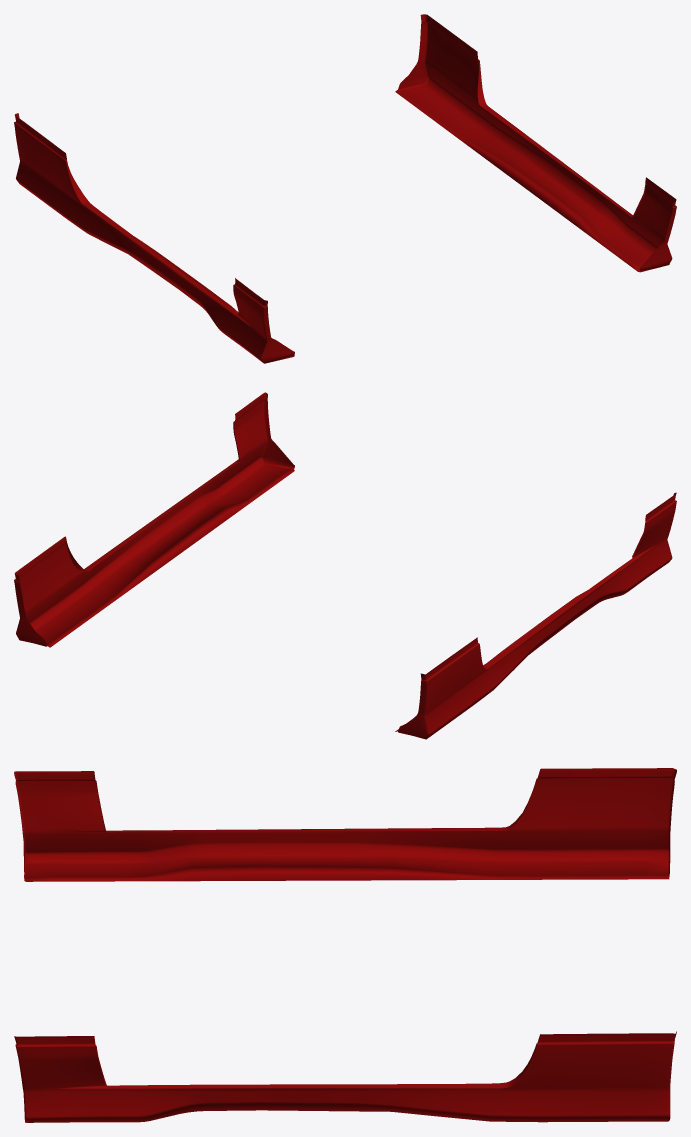
The model's file is sideskirts_oemkouki.glb.
3 renders of one model, top to bottom at view 1: azimuth 30°, elevation 25°; view 2: azimuth 150°, elevation 25°; view 3: azimuth 270°, elevation 25°, orthographic. The views are drawn at different scales.
Visible parts, largest first — view 1: Sideskirts; view 2: Sideskirts; view 3: Sideskirts.
Boxes of the visible parts, x1,y1,x2,y2 form: Sideskirts: [14, 14, 676, 363]; Sideskirts: [14, 392, 676, 739]; Sideskirts: [14, 768, 676, 1122].
Size of the model in its own units: 1.7 by 0.2737 by 1.79.
